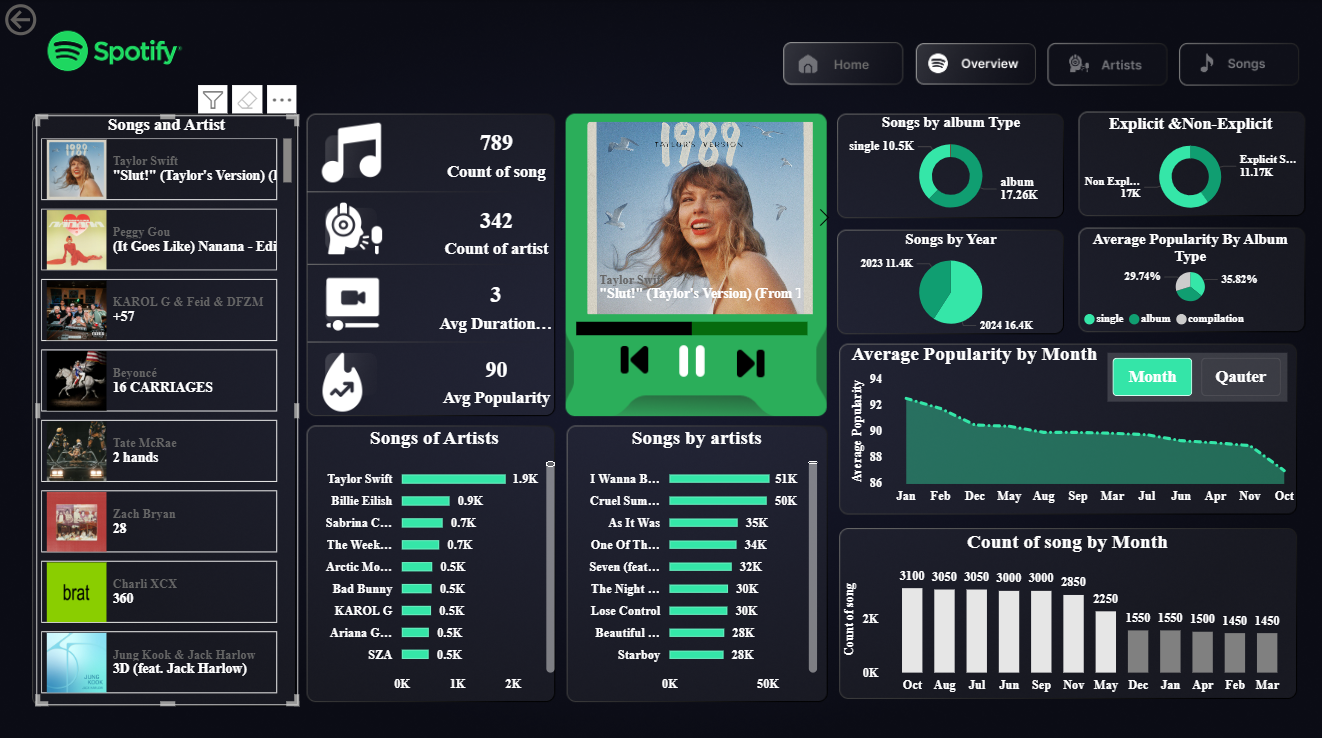

The page's visual inventory and layout, read from the dashboard file:
{"tool":"powerbi","page":{"name":"Page 1","canvas":[1280,720],"ordinal":0},"visuals":[{"type":"clusteredBarChart","title":"Songs of Artists","fields":{"Y":["CountNonNull(Top-50-World.song)"],"Category":["Top-50-World.artist"]},"box":[297.5,412.5,242.5,263.8],"z":0},{"type":"barChart","title":"Songs by artists","fields":{"Category":["Top-50-World.song"],"Y":["Sum(Top-50-World.popularity)"]},"box":[551.2,412.5,242.5,263.8],"z":1000},{"type":"areaChart","title":"Average Popularity by Month","fields":{"Y":["_Measures.Average Popularity"],"Category":["Top-50-World.Month Name"]},"box":[816.2,331.2,441.2,162.5],"z":2000},{"type":"advancedSlicerVisual","fields":{"Values":["Slicer_Option.Slicer_Option"]},"box":[1068.8,341.2,173.8,47.5],"z":3000},{"type":"donutChart","title":"Songs by album Type","fields":{"Y":["CountNonNull(Top-50-World.song)"],"Category":["Top-50-World.album_type"]},"box":[809.4,111.1,216.7,103.9],"z":4000},{"type":"donutChart","title":"Explicit &Non-Explicit","fields":{"Y":["_Measures.Explicit Songs Count","_Measures.Non Explicit Songs Count"]},"box":[1041.7,111.1,215.6,103.9],"z":5000},{"type":"pieChart","title":"Songs by Year","fields":{"Y":["CountNonNull(Top-50-World.song)"],"Category":["Top-50-World.Year"]},"box":[809.4,222.8,216.7,103.9],"z":6000},{"type":"pieChart","title":"Average Popularity By Album Type","fields":{"Category":["Top-50-World.album_type"],"Y":["_Measures.Average Popularity"]},"box":[1041.7,223.3,215.6,103.9],"z":7000},{"type":"columnChart","fields":{"Category":["Top-50-World.Month Name"],"Y":["CountNonNull(Top-50-World.song)"]},"box":[809.2,512.3,441.5,164.6],"z":8000},{"type":"card","fields":{"Values":["Count(Top-50-World.song)"]},"box":[418.8,111.2,121.2,75],"z":9000},{"type":"card","fields":{"Values":["_Measures.Average Popularity"]},"box":[418.5,331.5,121.5,70],"z":10000},{"type":"card","fields":{"Values":["Count(Top-50-World.artist)"]},"box":[418.5,187.7,121.5,70],"z":11000},{"type":"card","fields":{"Values":["_Measures.Average Duration Minutes"]},"box":[418.3,258.3,120,73.3],"z":12000},{"type":"image","box":[304.6,119.2,70.8,57.7],"z":13000},{"type":"image","box":[304.6,194.6,74.6,54.6],"z":14000},{"type":"image","box":[305.4,263.8,70,60.8],"z":15000},{"type":"image","box":[311.5,341.5,56.2,56.9],"z":16000},{"type":"advancedSlicerVisual","title":"Songs and Artist","fields":{"Values":["Top-50-World.song"]},"box":[35,111.7,251.7,570],"z":17000},{"type":"actionButton","box":[0,0,100,40],"z":18000},{"type":"advancedSlicerVisual","title":"Songs and Artist","fields":{"Values":["Top-50-World.song"]},"box":[540,112.2,270,198.9],"z":19000},{"type":"hundredPercentStackedBarChart","fields":{"Y":["Avg(Top-50-World.popularity)","_Measures.Average Popularity"]},"box":[551.3,281.3,233.3,68.3],"z":20000},{"type":"image","box":[704.4,336.7,40,30],"z":21000},{"type":"image","box":[592.2,333.3,40,30],"z":22000},{"type":"image","box":[648.3,334.4,40,30],"z":23000},{"type":"shape","box":[541.7,111.7,268.3,290],"z":24000}]}

Visuals, with their boxes in screenshot pixels (x1, y1, x2, y2), scaled from the page's 1280x720 canvas onto the 1322x738 screenshot:
"Songs of Artists" clusteredBarChart: bbox=[307, 423, 558, 693]
"Songs by artists" barChart: bbox=[569, 423, 820, 693]
"Average Popularity by Month" areaChart: bbox=[843, 339, 1299, 506]
advancedSlicerVisual - Slicer_Option.Slicer_Option: bbox=[1104, 350, 1283, 398]
"Songs by album Type" donutChart: bbox=[836, 114, 1060, 220]
"Explicit &Non-Explicit" donutChart: bbox=[1076, 114, 1299, 220]
"Songs by Year" pieChart: bbox=[836, 228, 1060, 335]
"Average Popularity By Album Type" pieChart: bbox=[1076, 229, 1299, 335]
columnChart - Top-50-World.Month Name x CountNonNull(Top-50-World.song): bbox=[836, 525, 1292, 694]
card - Count(Top-50-World.song): bbox=[433, 114, 558, 191]
card - _Measures.Average Popularity: bbox=[432, 340, 558, 412]
card - Count(Top-50-World.artist): bbox=[432, 192, 558, 264]
card - _Measures.Average Duration Minutes: bbox=[432, 265, 556, 340]
image: bbox=[315, 122, 388, 181]
image: bbox=[315, 199, 392, 255]
image: bbox=[315, 270, 388, 333]
image: bbox=[322, 350, 380, 408]
"Songs and Artist" advancedSlicerVisual: bbox=[36, 114, 296, 699]
actionButton: bbox=[0, 0, 103, 41]
"Songs and Artist" advancedSlicerVisual: bbox=[558, 115, 837, 319]
hundredPercentStackedBarChart - Avg(Top-50-World.popularity) x _Measures.Average Popularity: bbox=[569, 288, 810, 358]
image: bbox=[728, 345, 769, 376]
image: bbox=[612, 342, 653, 372]
image: bbox=[670, 343, 711, 374]
shape: bbox=[559, 114, 837, 412]
